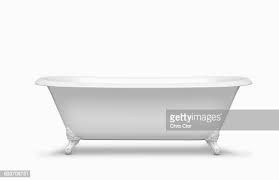bathub: (36, 67, 259, 157)
